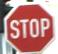Stop sign: (0, 0, 57, 53)
